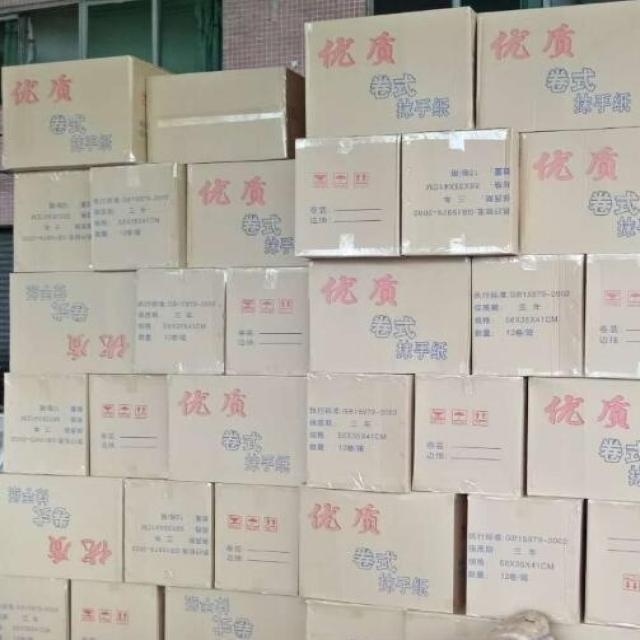box: (304, 7, 476, 137), (475, 0, 640, 132), (298, 486, 464, 613), (0, 55, 172, 174), (309, 258, 470, 375), (145, 65, 304, 164), (167, 376, 307, 485), (401, 129, 520, 257), (520, 129, 640, 255), (467, 496, 583, 624), (525, 377, 640, 502), (470, 256, 584, 377), (411, 376, 524, 497), (186, 160, 308, 269), (295, 135, 400, 260), (304, 374, 414, 493), (9, 271, 135, 374), (0, 474, 122, 580), (308, 602, 608, 639), (90, 163, 186, 271), (123, 479, 212, 588), (134, 270, 225, 376), (214, 484, 299, 597), (225, 268, 308, 375), (3, 374, 87, 475), (88, 375, 167, 479), (13, 169, 92, 272), (163, 586, 305, 640), (583, 500, 640, 629), (585, 254, 640, 380), (70, 579, 163, 640), (0, 578, 70, 640)
